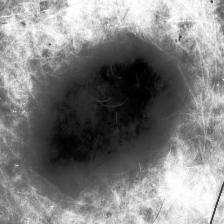Benign Marking or Mole: (32, 46, 180, 181)
